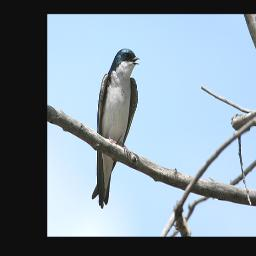Swallow: (92, 49, 141, 209)
